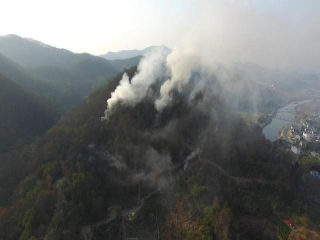smoke: (96, 12, 296, 185)
